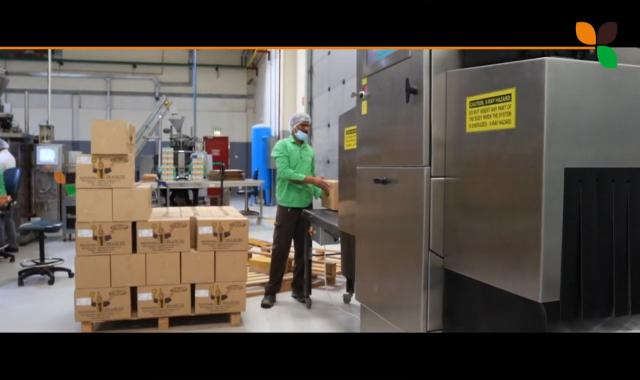hairnet: (291, 112, 313, 142)
